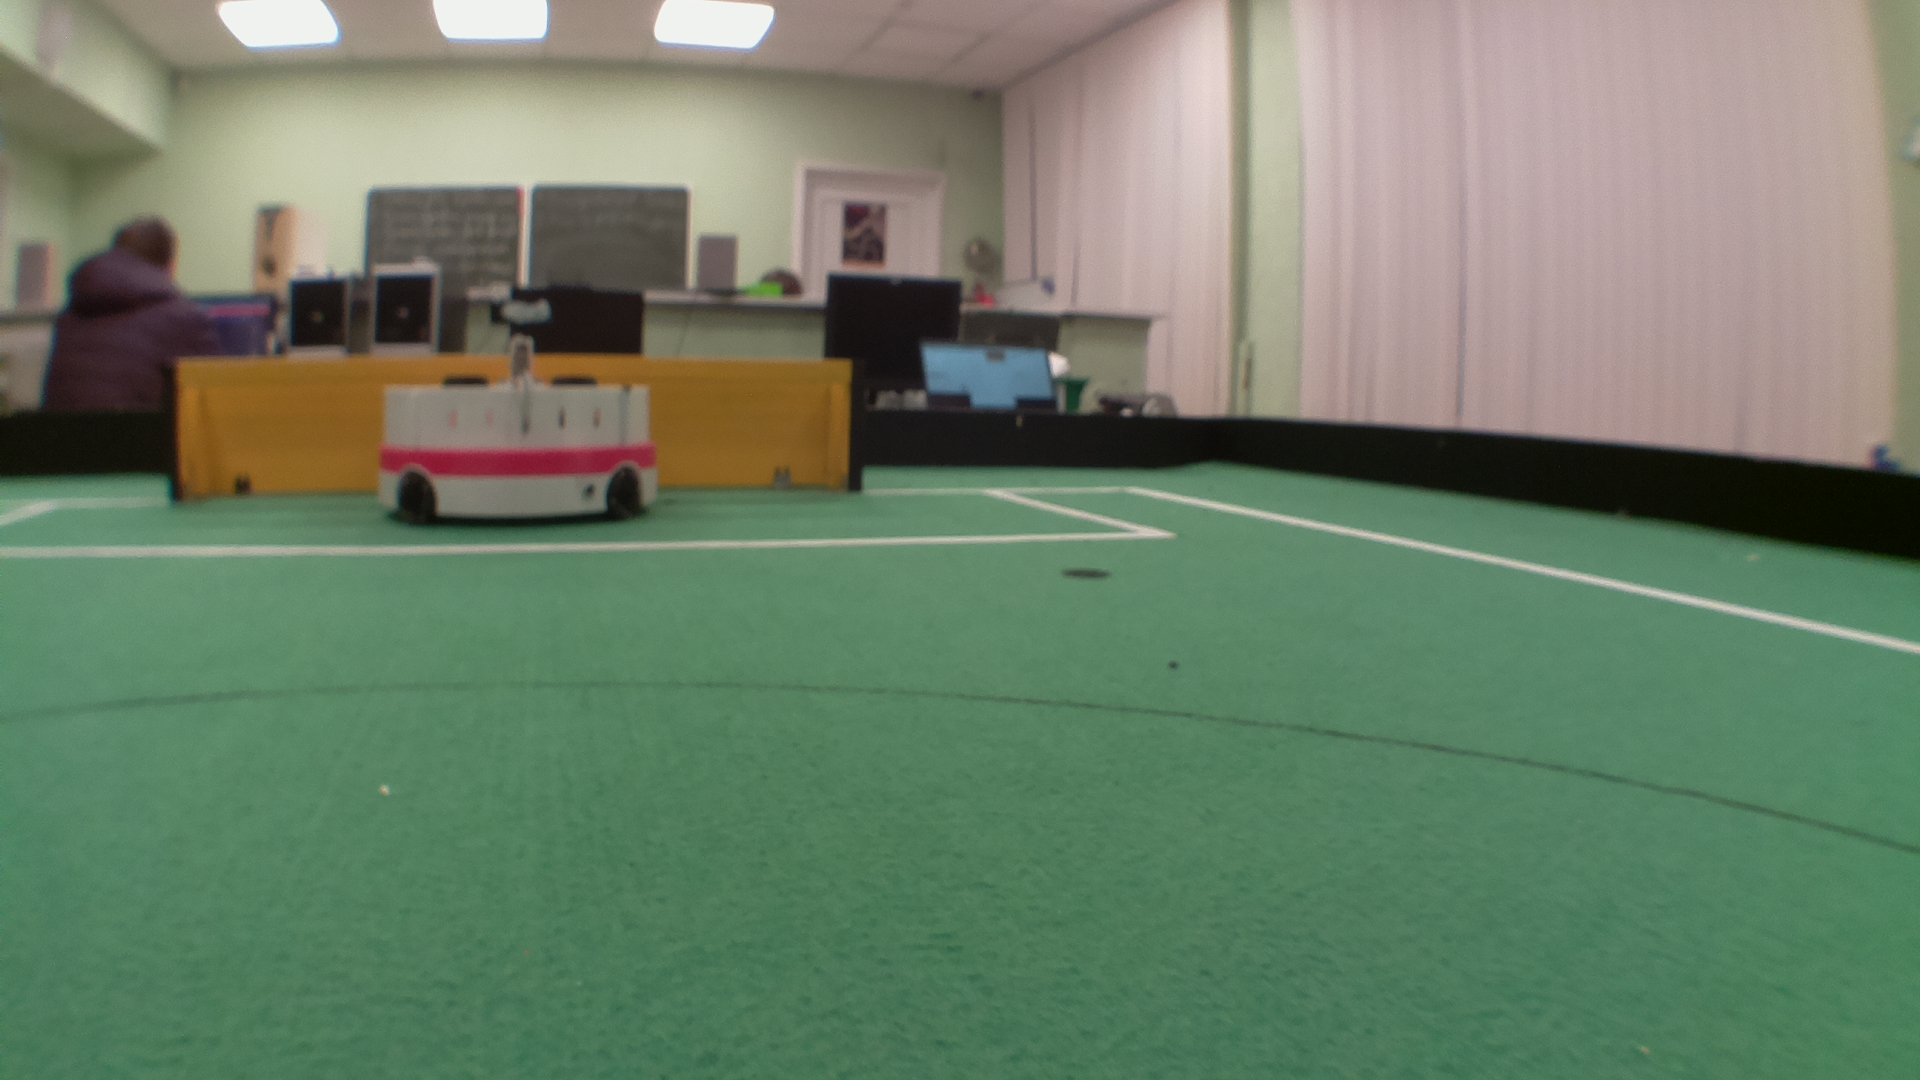YellowGoal: (175, 348, 851, 524)
